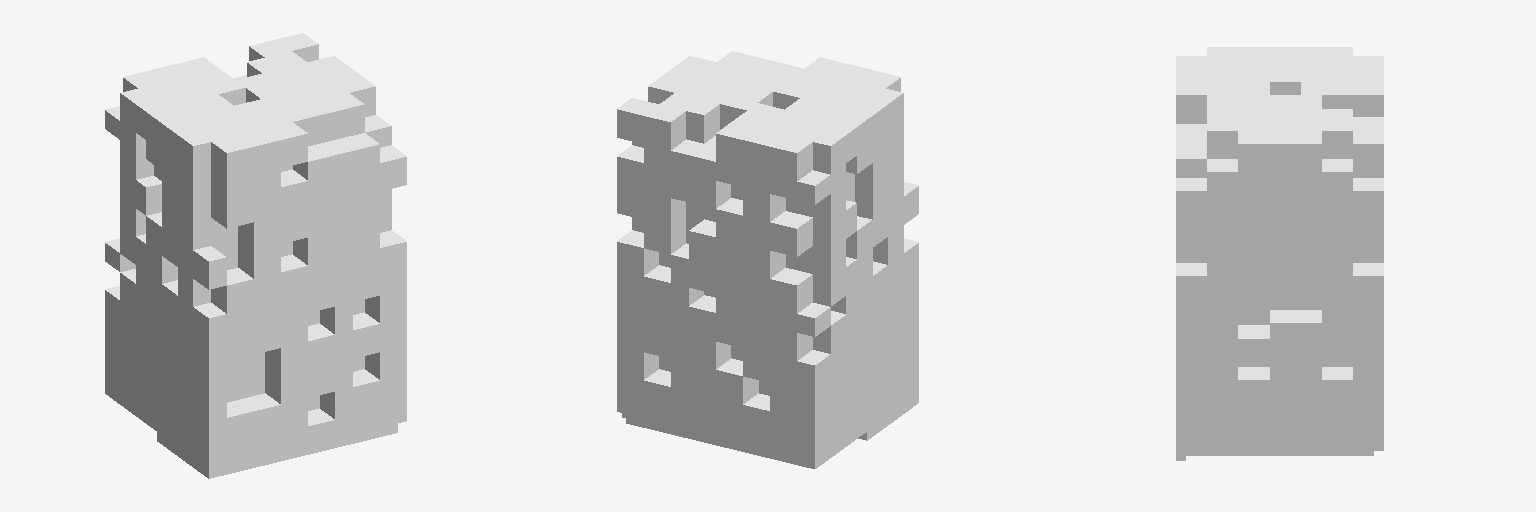
Rendered from bushtower-1.obj.
The picture shows the model from 3 angles: view 1: azimuth 30°, elevation 25°; view 2: azimuth 150°, elevation 25°; view 3: azimuth 270°, elevation 25°; orthographic projection.
Visible parts, largest first — view 1: object 1; view 2: object 1; view 3: object 1.
Part boxes in pixels (x1,y1,x2,y2): object 1: (105,33,406,478); object 1: (617,51,918,468); object 1: (1176,47,1383,460).
Size of the model in its own units: 2.2 by 3.4 by 2.